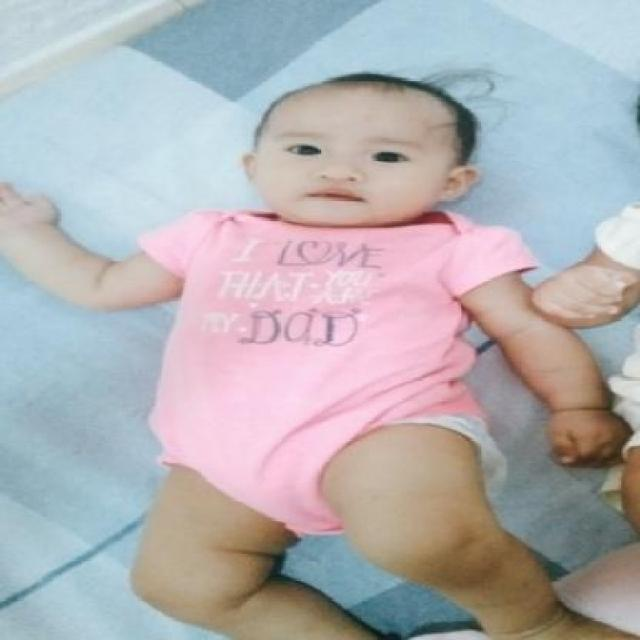child: (128, 71, 625, 639)
